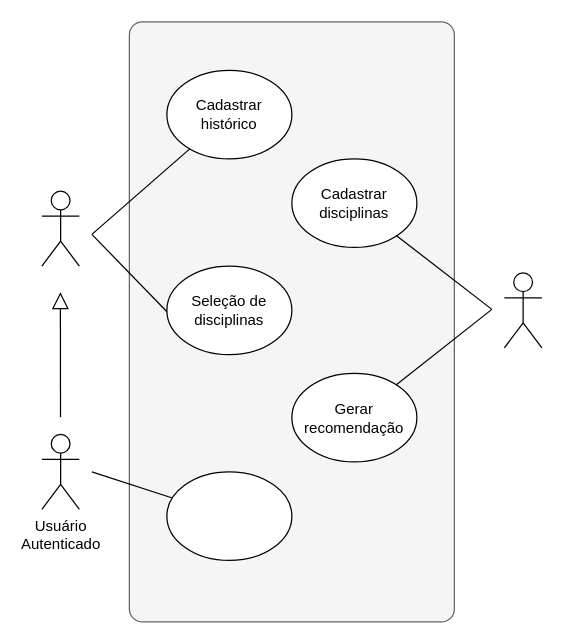
This 571x644 diagram has some shape labels left out. The centre of each missing label's shape, as x and y in pixels:
Avaliar professores e disciplinas: point 229,515
Sistema: point 522,310
Usuário: point 60,228
